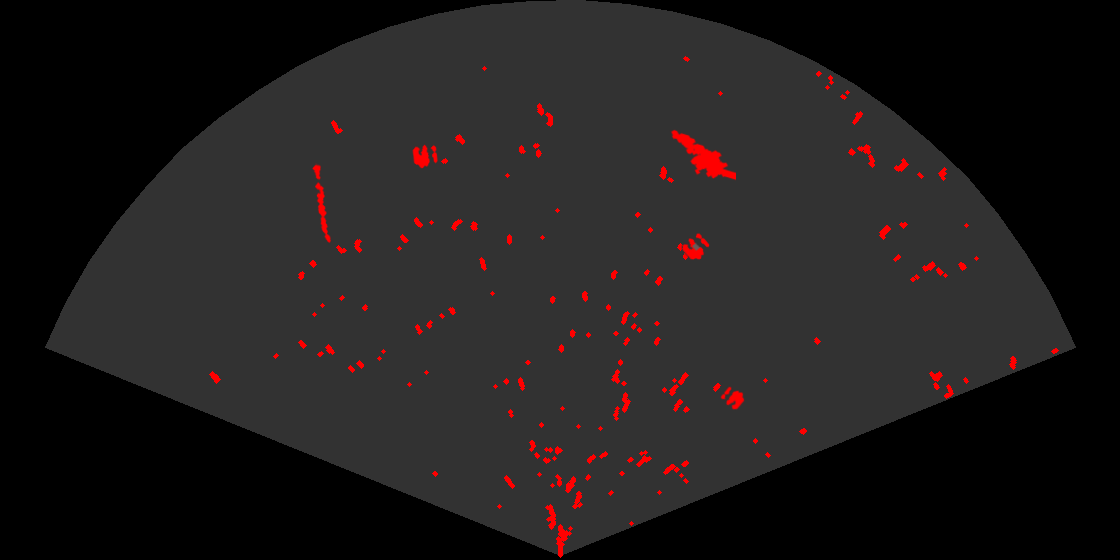ball: (681, 232, 711, 261), (411, 143, 439, 170), (719, 385, 746, 411)
chain: (311, 163, 332, 245)
frogman: (669, 128, 736, 182)
